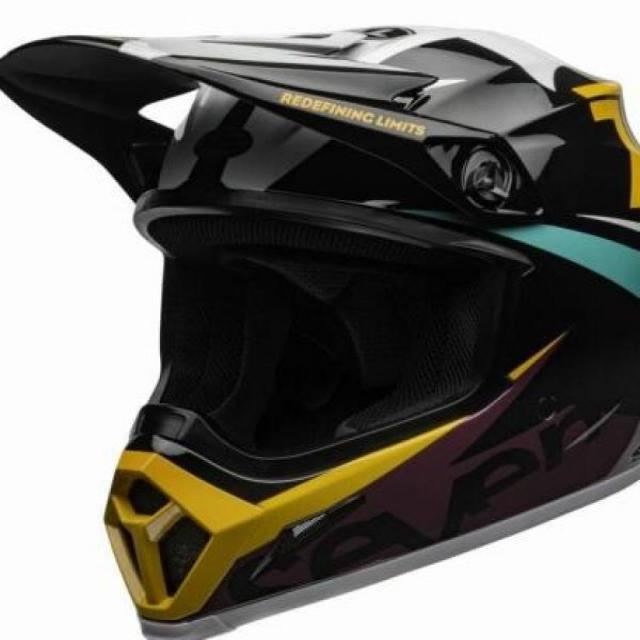Helmet: (4, 29, 640, 614)
